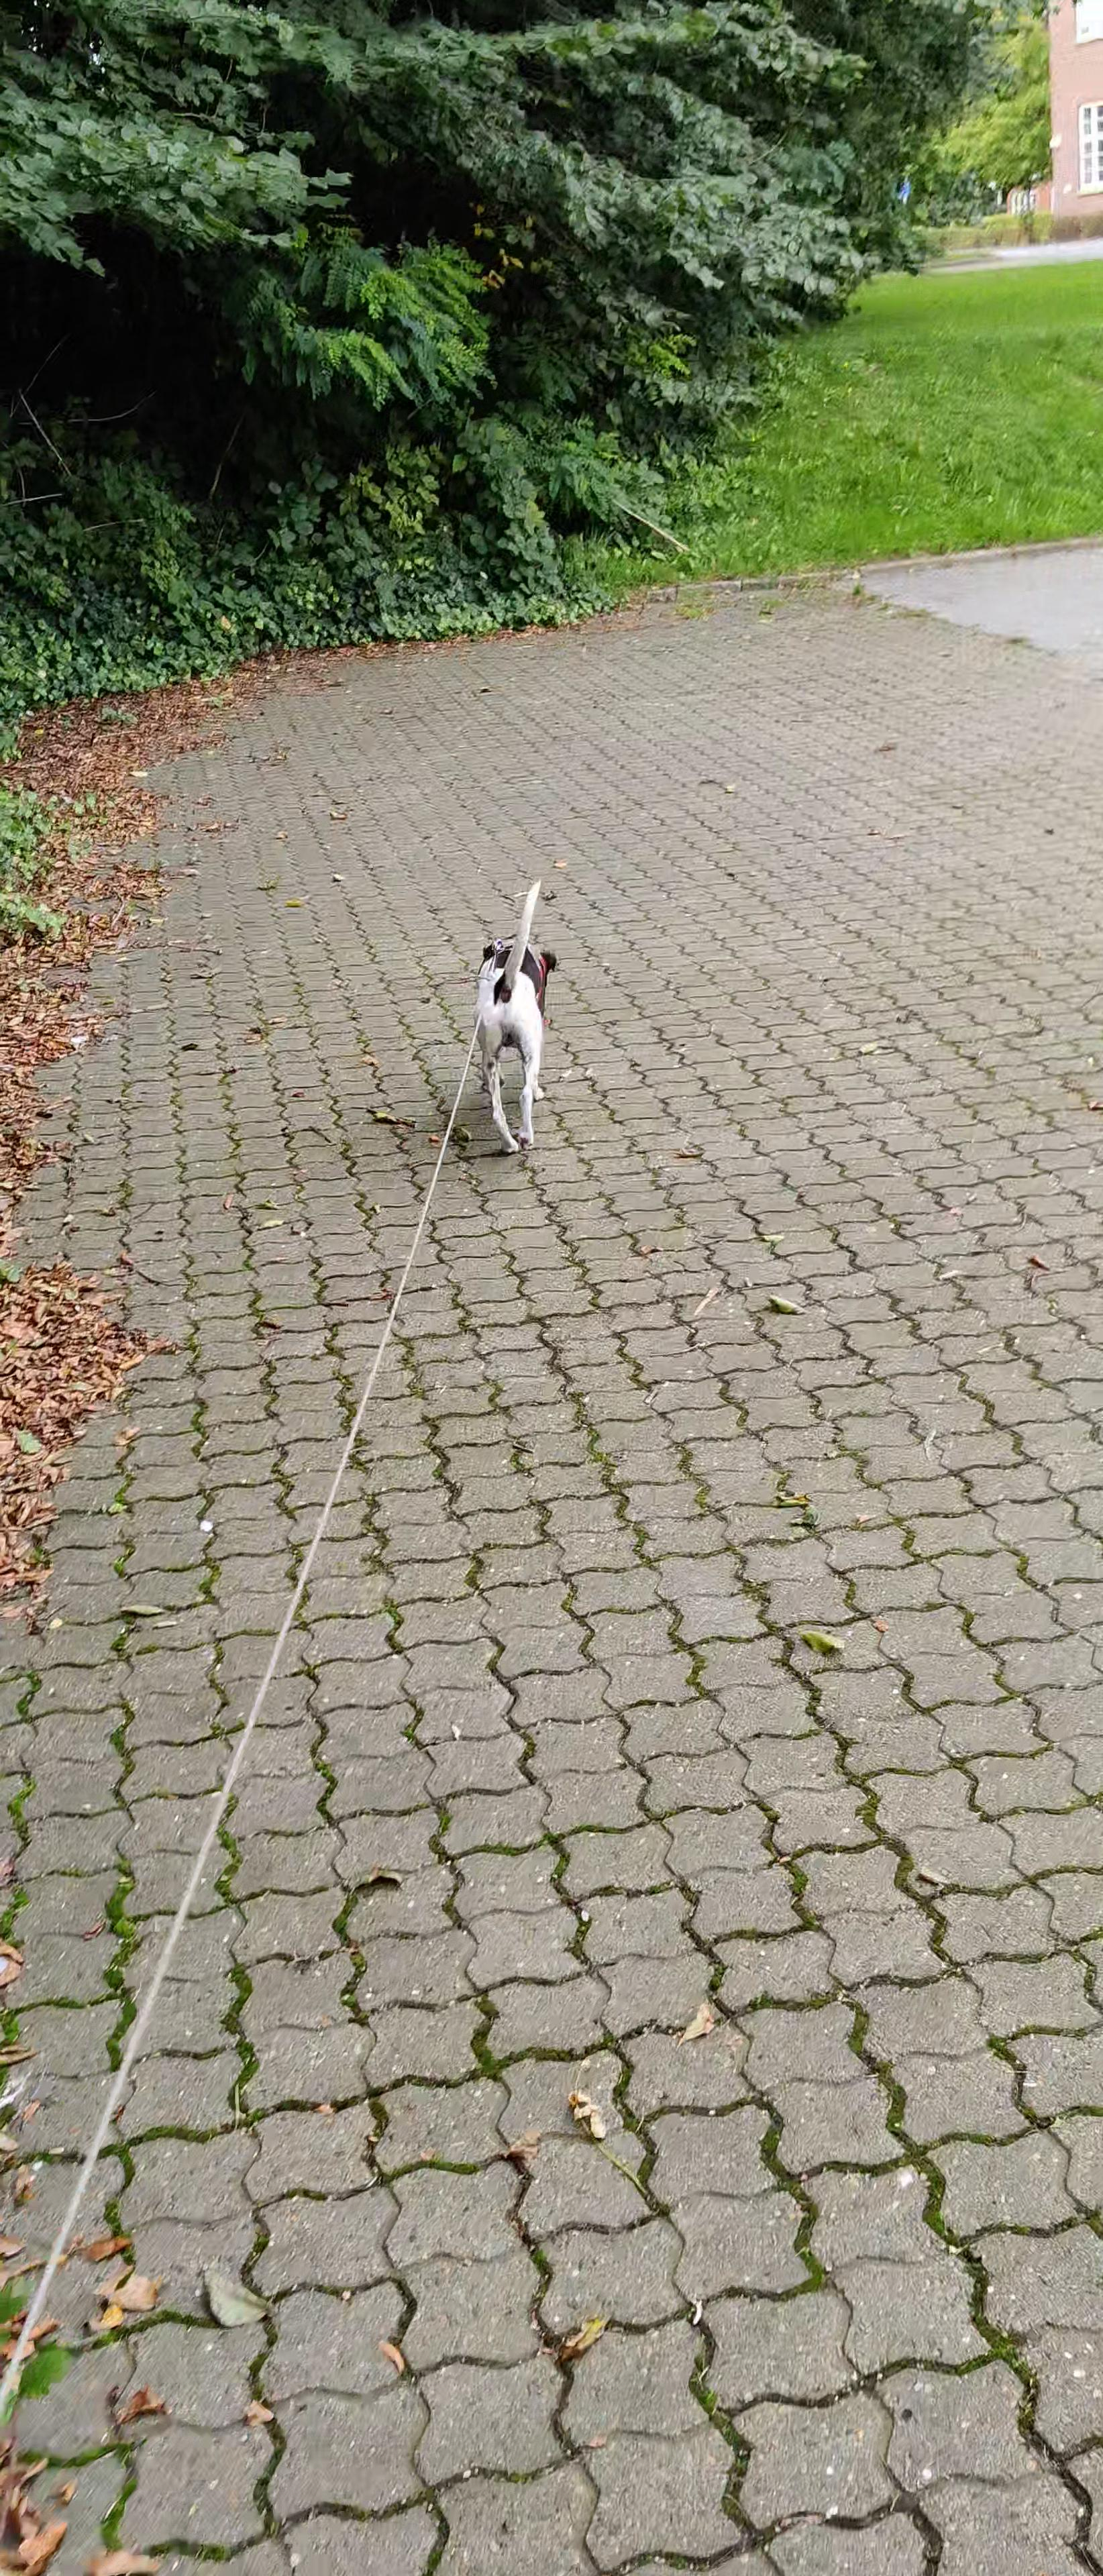Dog: (465, 874, 570, 1157)
